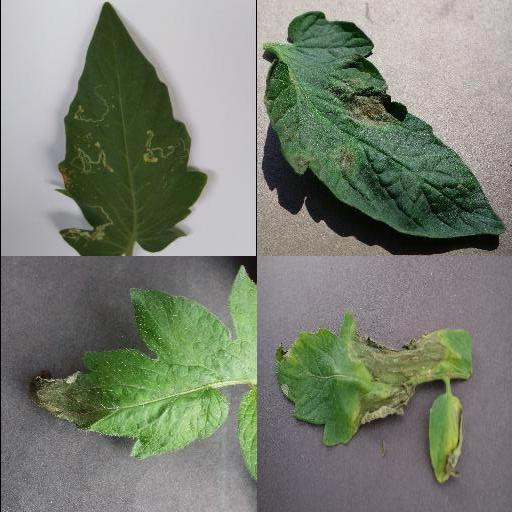Late Blight: (262, 12, 508, 238), (26, 265, 256, 461), (274, 314, 474, 446), (426, 393, 464, 487)
Leaf Miner: (56, 1, 206, 256)
